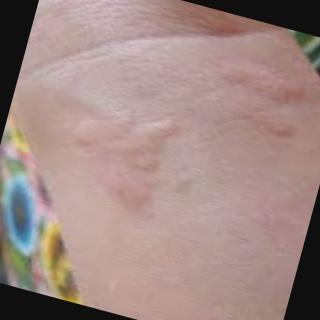urticaria: (55, 89, 191, 206), (222, 61, 306, 134)
